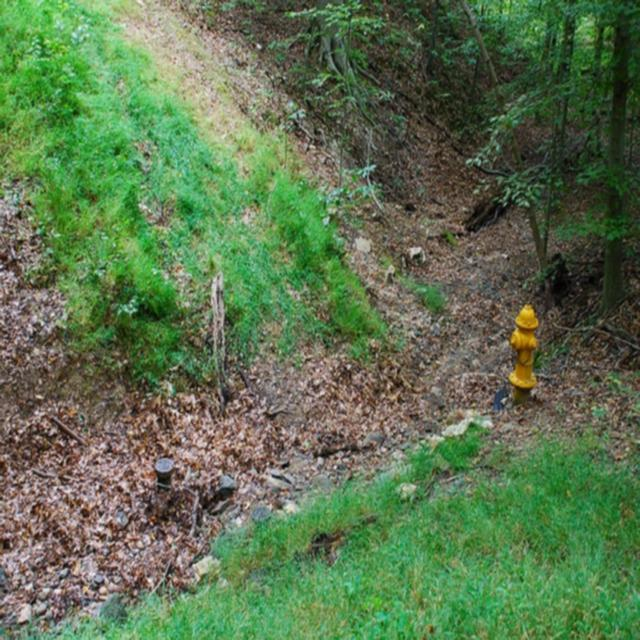fire_hydrant: (508, 297, 538, 398)
